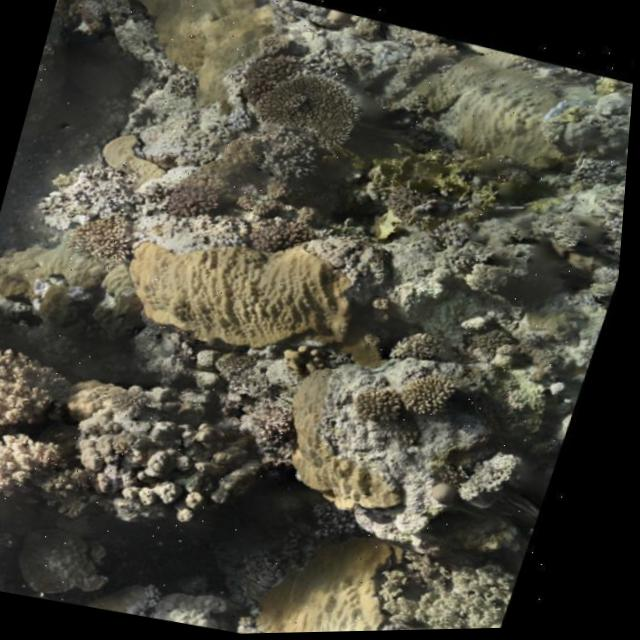Bleached Coral: (92, 547, 258, 636), (15, 509, 150, 615)
Healthy Coral: (224, 59, 393, 179)
